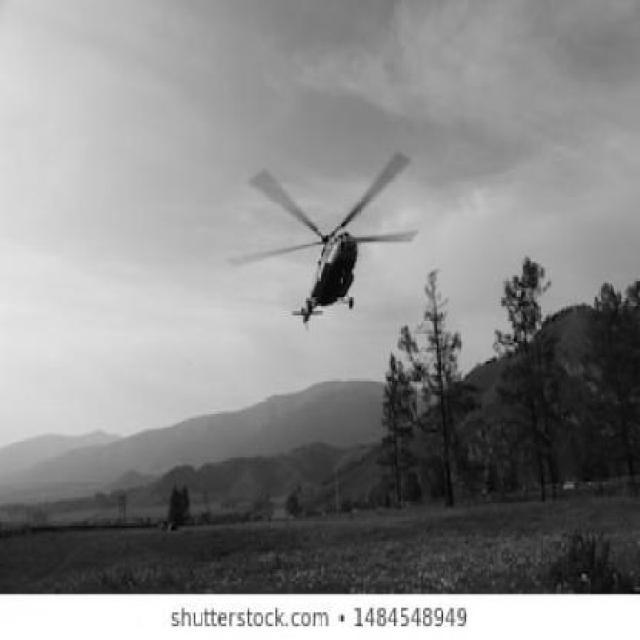helikopter: (223, 147, 422, 346)
